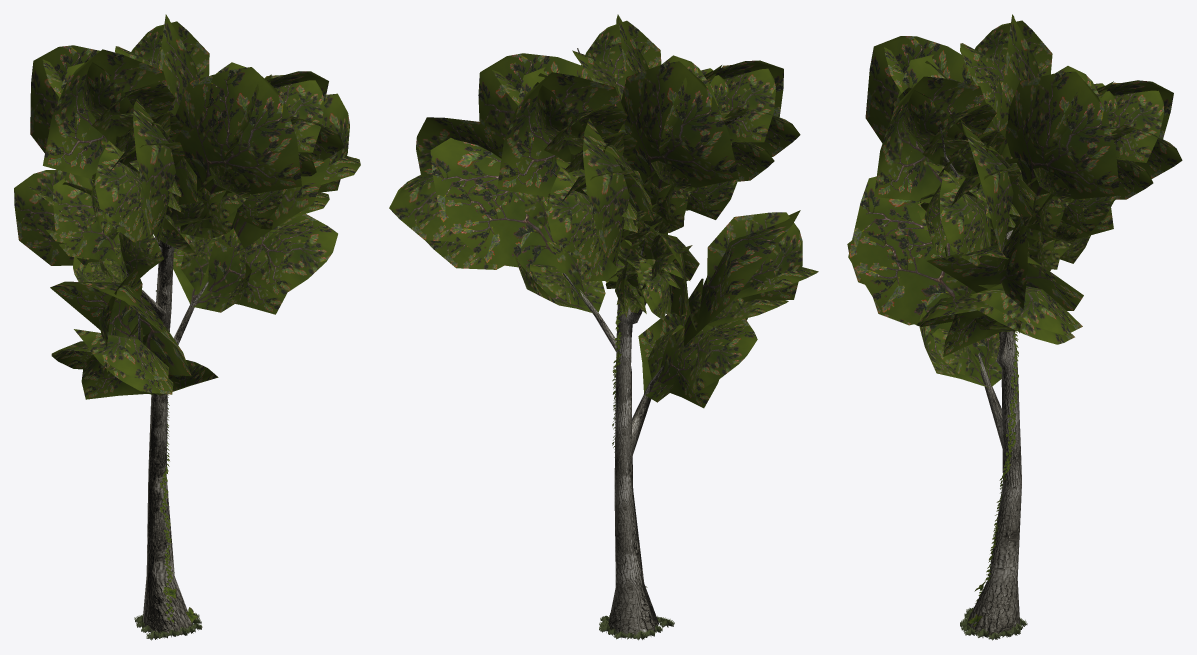
The model's file is TreeTest01.obj.
3 renders of one model, left to right at view 1: azimuth 30°, elevation 25°; view 2: azimuth 150°, elevation 25°; view 3: azimuth 270°, elevation 25°, orthographic.
Visible parts, largest first — view 1: Cylinder002; view 2: Cylinder002; view 3: Cylinder002.
Boxes of the visible parts, bbox=[...] form: Cylinder002: bbox=[14, 14, 360, 640]; Cylinder002: bbox=[389, 14, 818, 640]; Cylinder002: bbox=[847, 14, 1182, 640].
Size of the model in its own units: 11.62 by 19.21 by 9.99.
4 materials, 4 textured.
